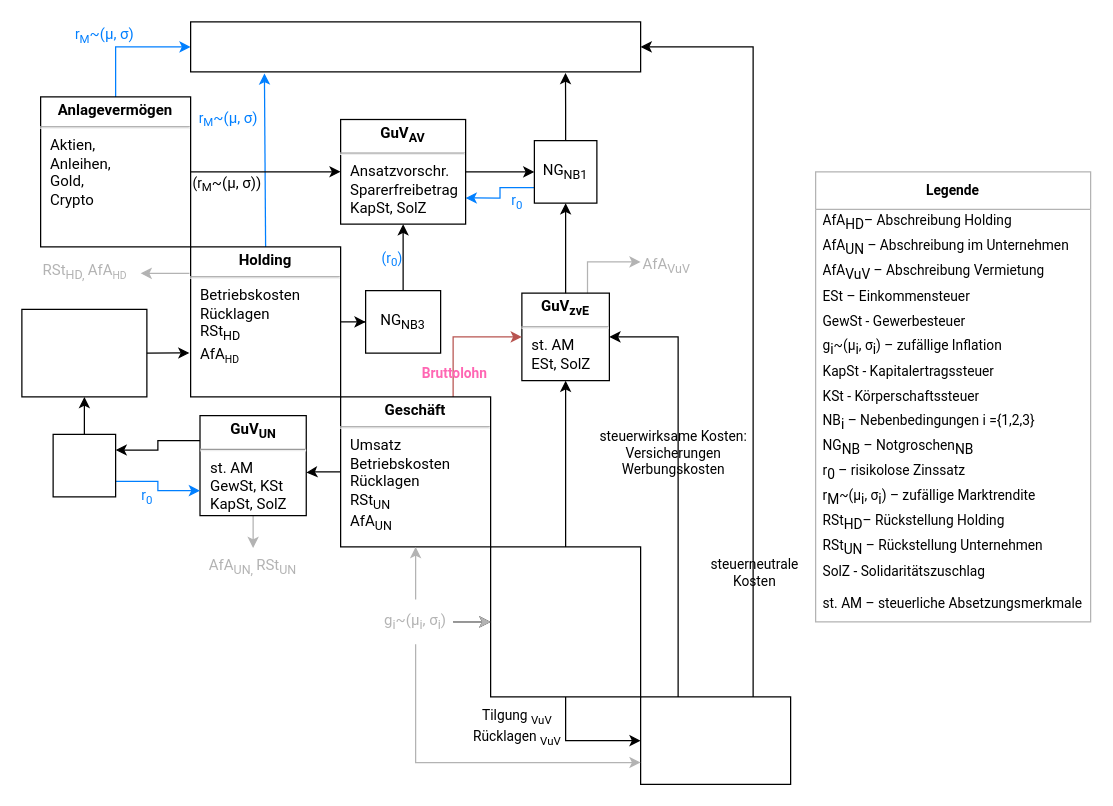
Image size: 1113x806. Some labels were removed from this diagram. The centre of each missing label's shape, as x and y in pixels:
"GuV Th Steuerfreibetrag KapSt, SolZ" belongs at pixel 84 352.
"Lebenshaltung Fixkosten Variable Kosten" belongs at pixel 715 740.
"NG NB2" belongs at pixel 84 465.
"VuV Mieteinnahmen Werbungskosten Annuität Rücklagen VuV AfA VuV" belongs at pixel 565 621.
"ΔVermögen" belongs at pixel 415 46.
